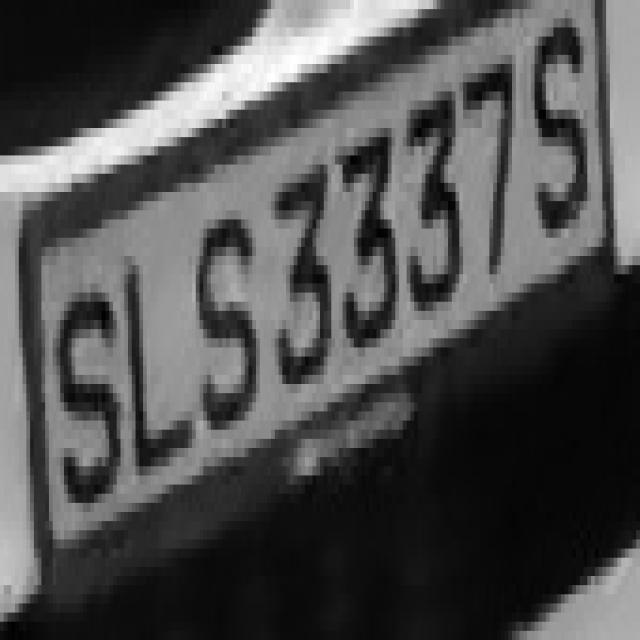3: (395, 73, 471, 384), (264, 128, 328, 439), (320, 128, 395, 393)
7: (459, 9, 531, 348)
L: (106, 192, 200, 503)
S: (45, 238, 124, 567), (181, 210, 267, 467), (527, 18, 602, 247)
